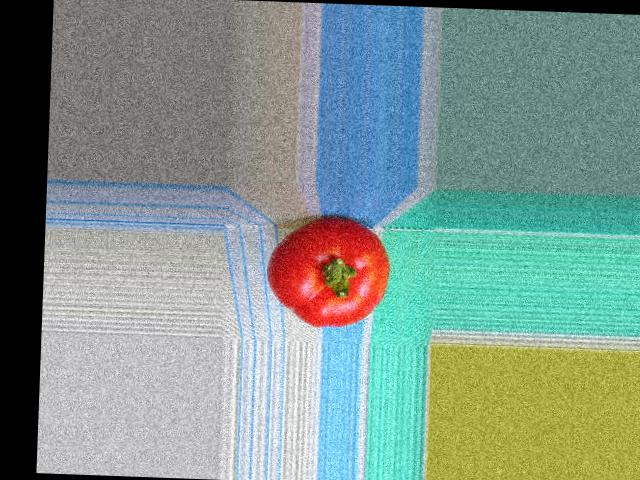tomato: (266, 214, 391, 329)
